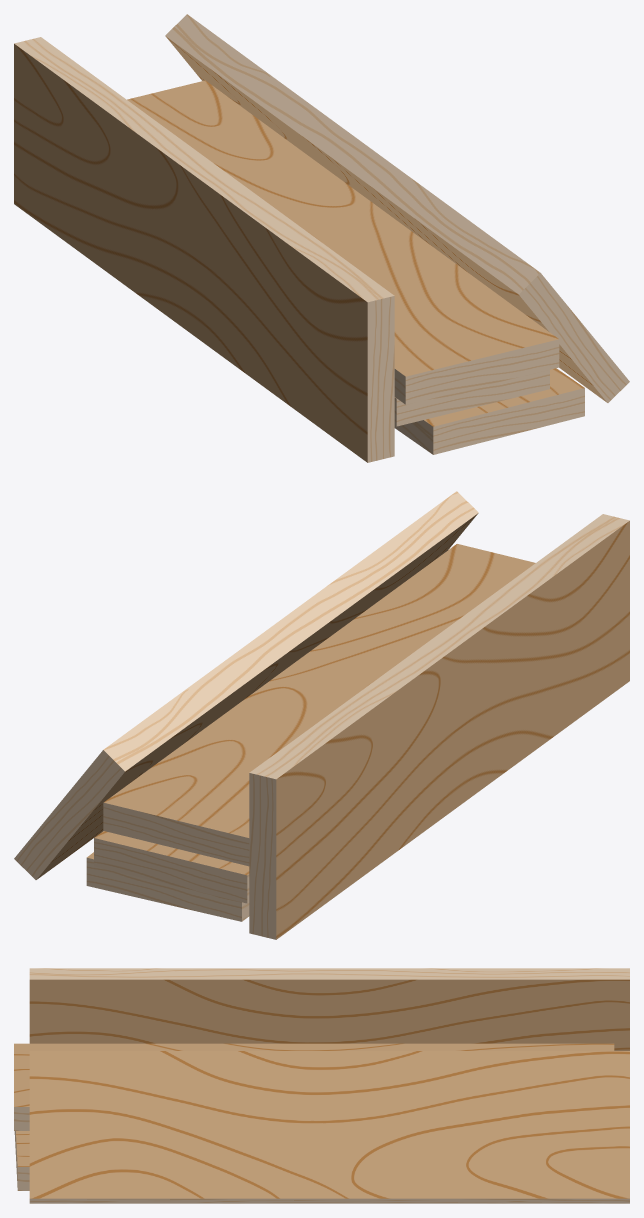
Rendered from planks.fbx.
The picture shows the model from 3 angles, top to bottom: view 1: azimuth 30°, elevation 25°; view 2: azimuth 150°, elevation 25°; view 3: azimuth 270°, elevation 25°; orthographic projection. The views are drawn at different scales.
Visible parts, largest first — view 1: planks; view 2: planks; view 3: planks.
Part boxes in pixels (x1,y1,x2,y2): planks: (14, 14, 629, 462); planks: (14, 491, 629, 939); planks: (14, 968, 629, 1203).
Bounding box in the file's own units: 2.13 × 1.25 × 5.1.
